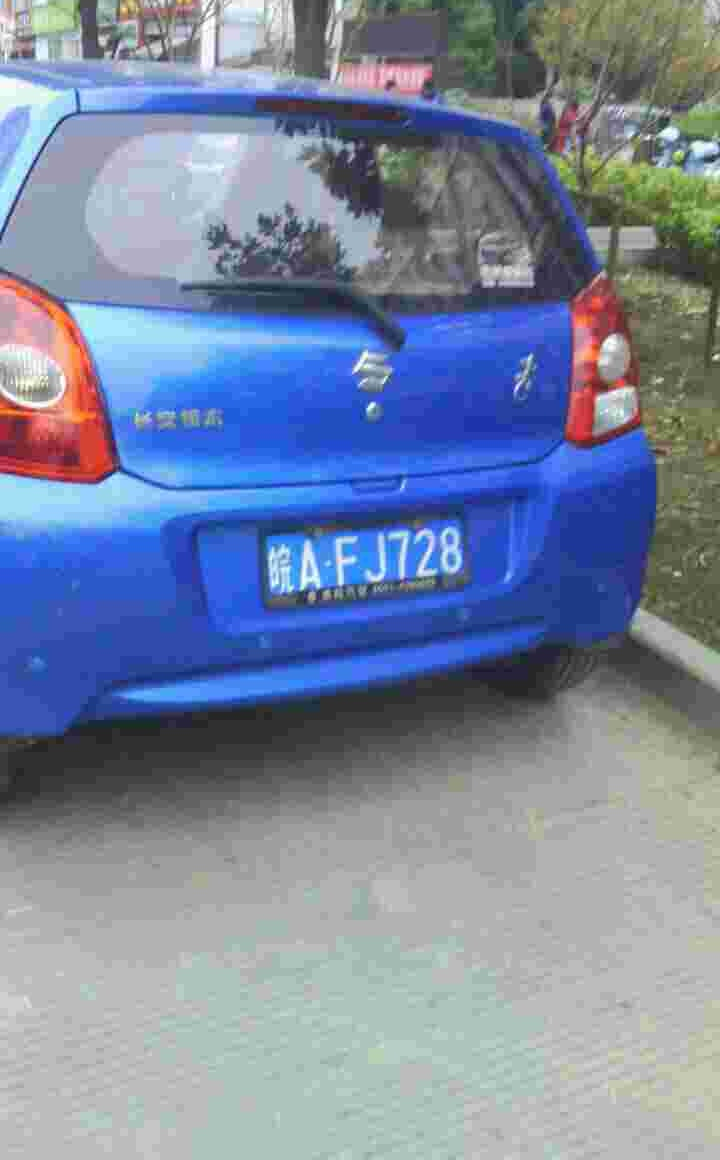plate: (268, 508, 474, 609)
